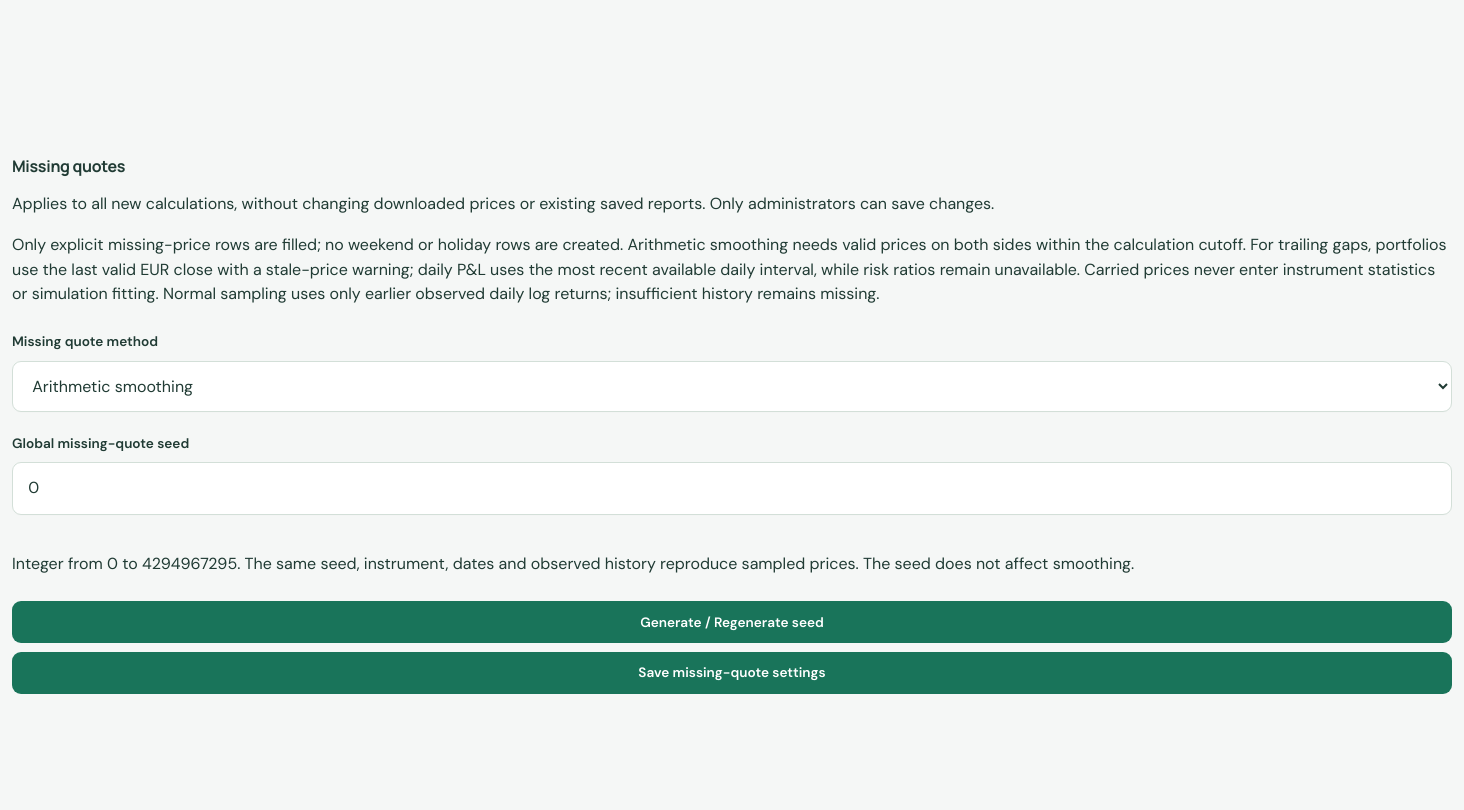
Test: loads, edits, securely regenerates and explicitly saves the global policy
Select "Normally sampled log returns" in the dropdown labelled "Missing quote method" at point(732, 386), box [12,361,1452,412]
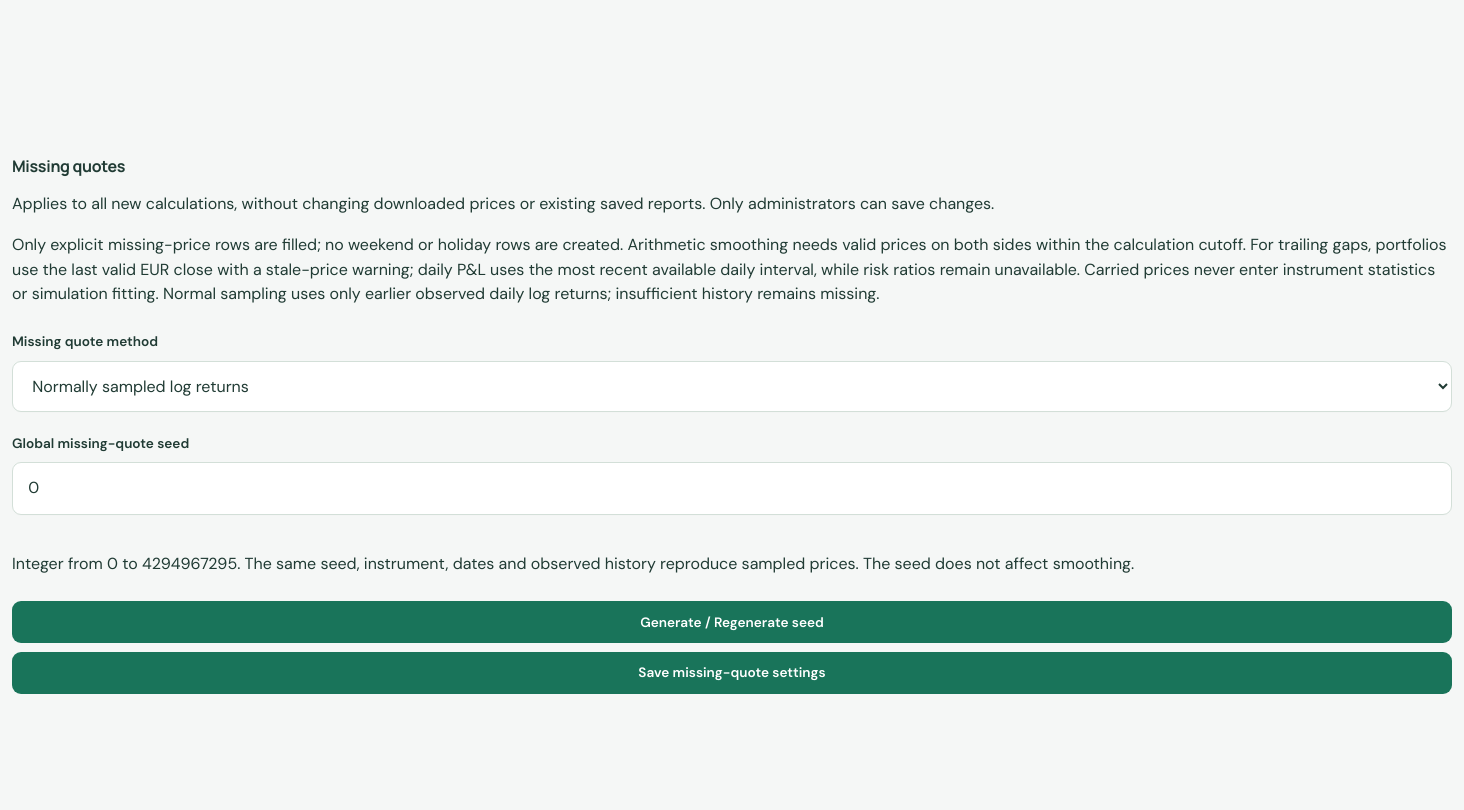
Click the button "Generate / Regenerate seed" at point(732, 622), box [12,601,1452,643]
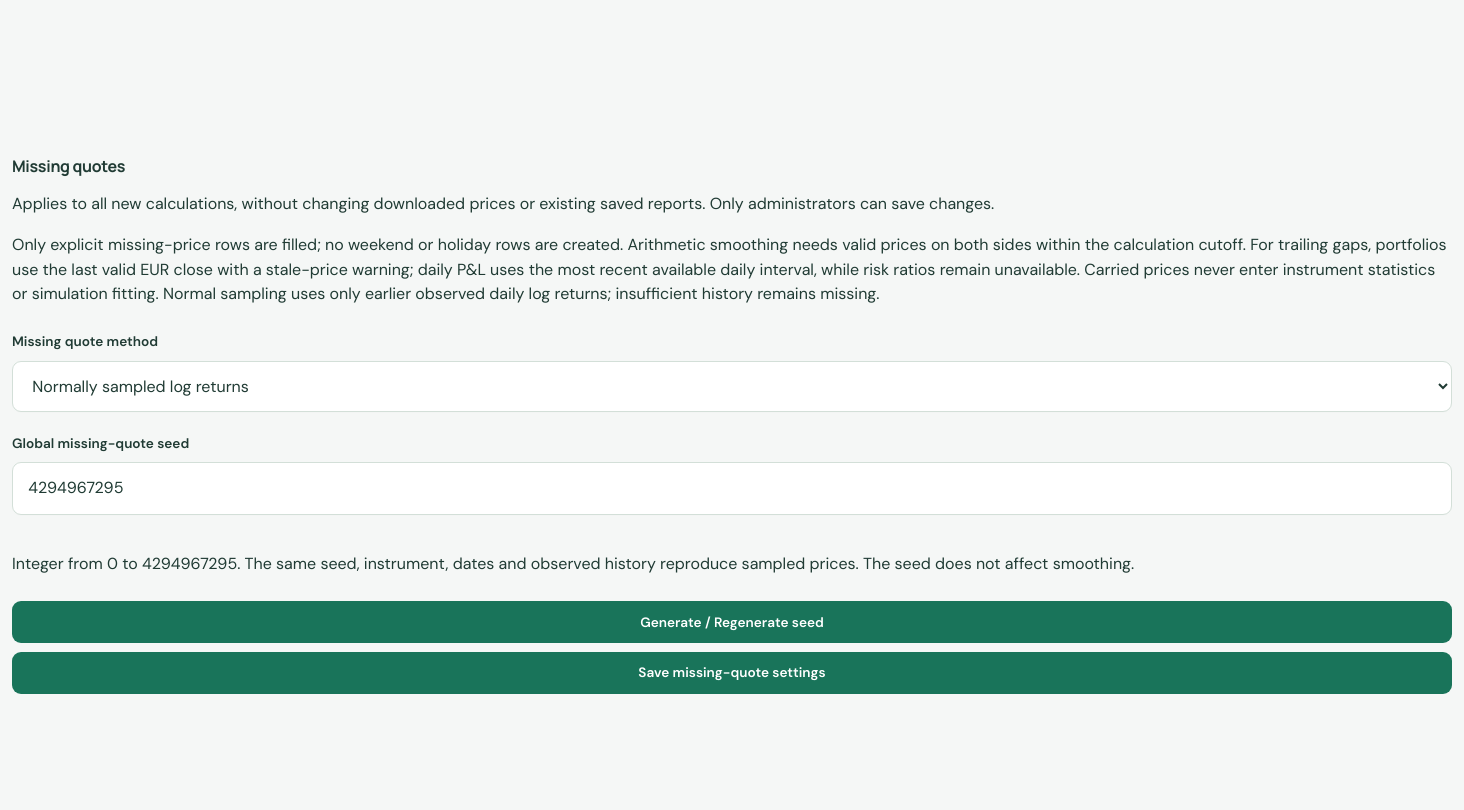
Check: the field labelled "Global missing-quote seed" holds "4294967295", box [12,462,1452,515]
Click the button "Save missing-quote settings" at point(732, 673), box [12,652,1452,694]
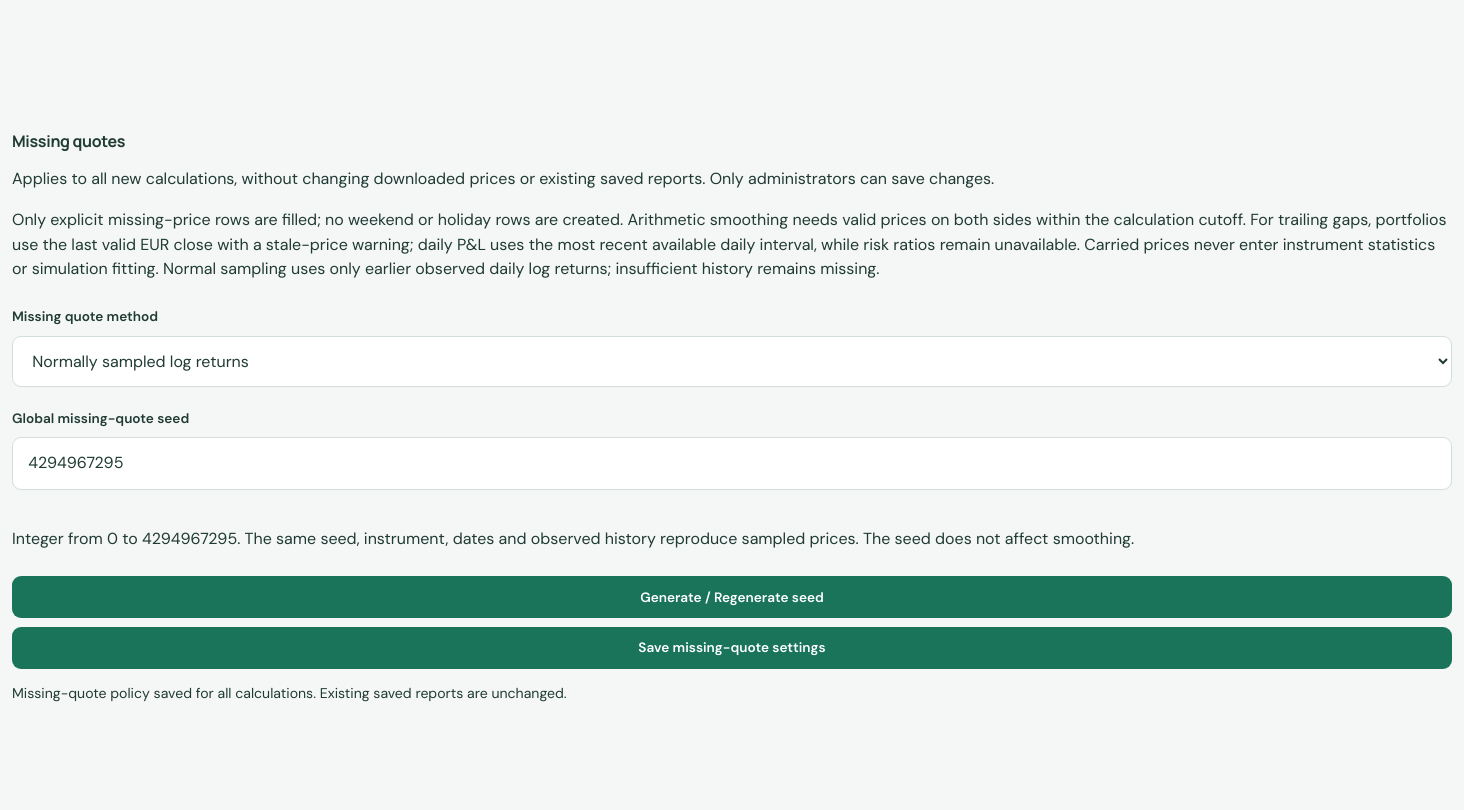
Check: the message shows "Existing saved reports are unchanged", box [12,684,567,702]
